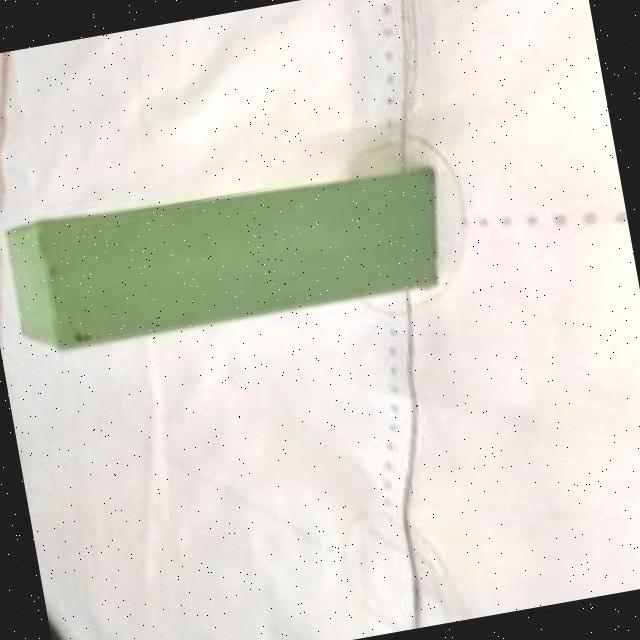greenbox: (0, 144, 461, 366)
